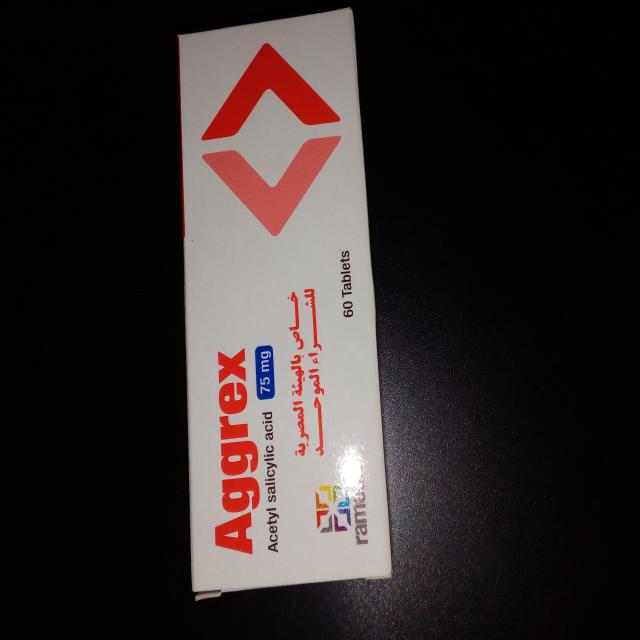Medicine: (175, 7, 398, 600)
